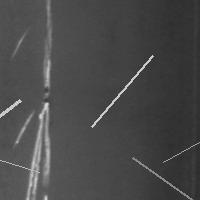scratches: (17, 1, 56, 198), (87, 50, 158, 131), (127, 152, 199, 200), (0, 95, 25, 165), (0, 140, 44, 177), (158, 137, 200, 167)
